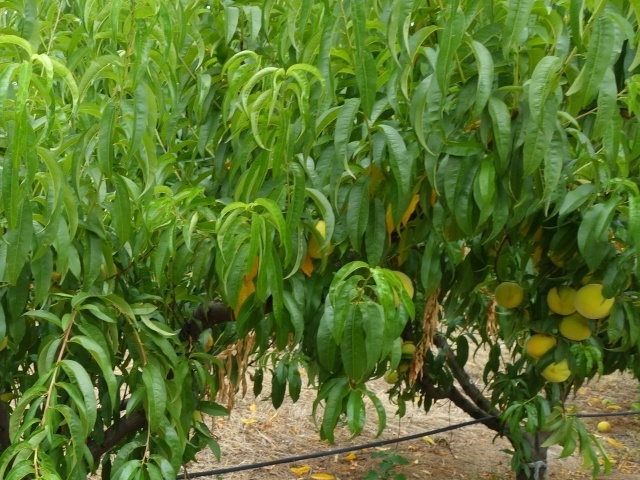peach: (573, 281, 619, 322), (302, 216, 337, 264), (385, 267, 419, 311), (536, 350, 576, 387), (543, 281, 581, 317), (522, 328, 559, 361), (559, 309, 593, 344), (491, 278, 526, 310), (380, 367, 402, 389), (399, 340, 419, 360)
